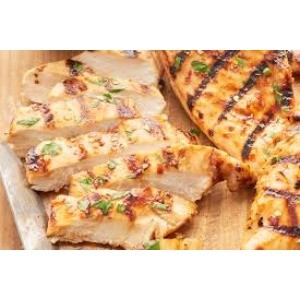chicken breast_brain food: (26, 68, 190, 222)
